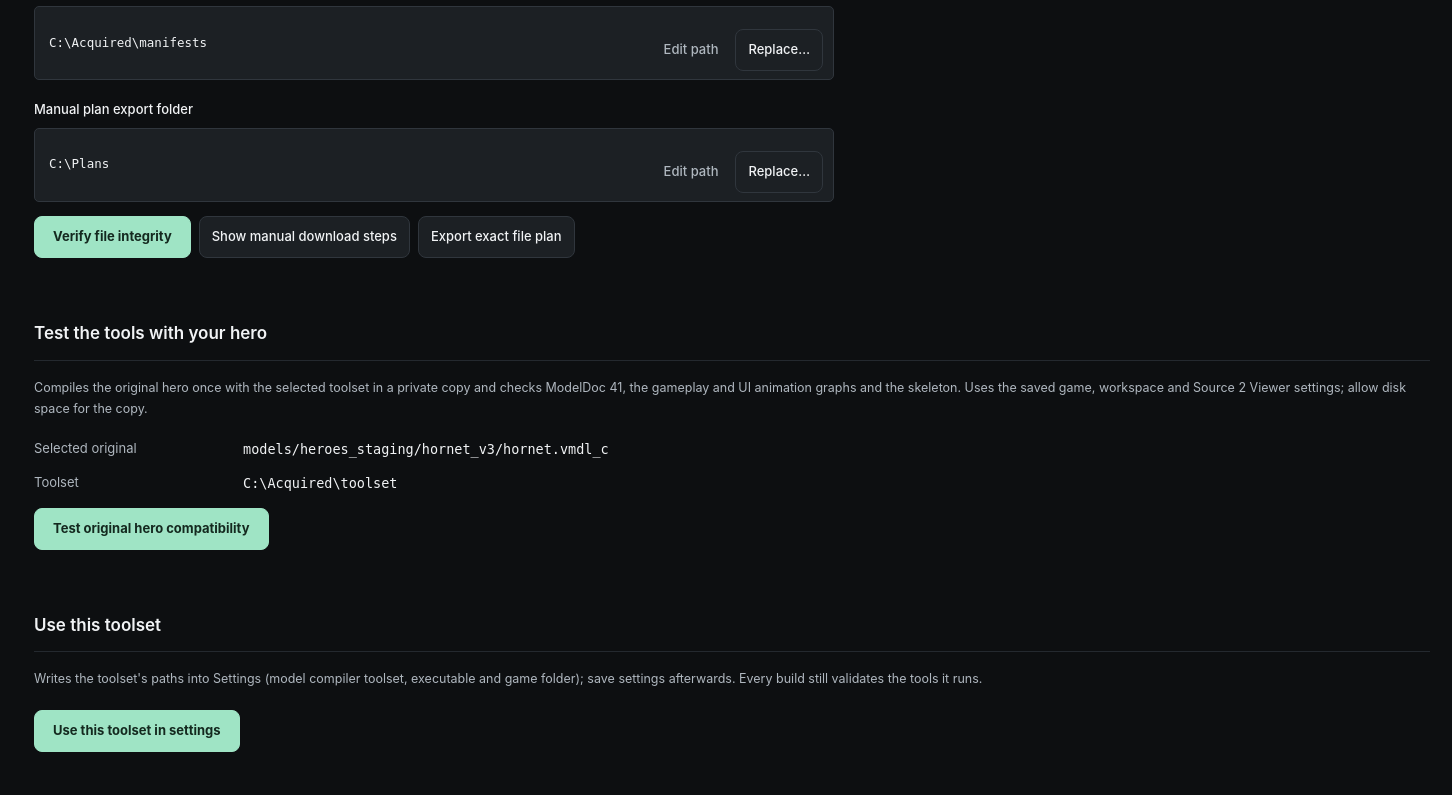
Scenario: Real setup command wiring › uses the native selected settings without saving or claiming compatibility
(page scrolled)
Click the button "Use this toolset in settings" at [137, 731], box [34, 710, 240, 752]
(page scrolled)
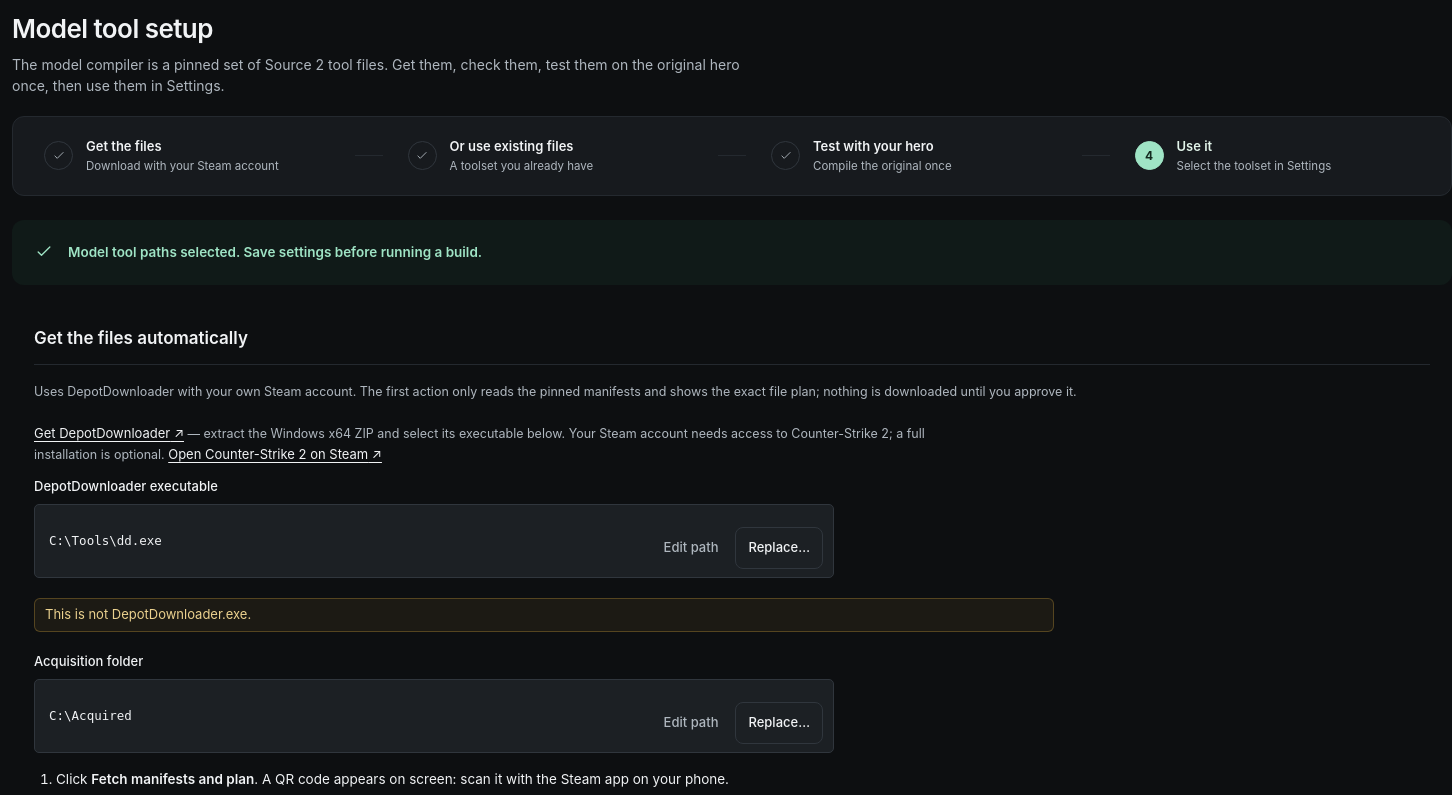
Result: the message shows "Save settings" at [68, 244, 482, 260]
